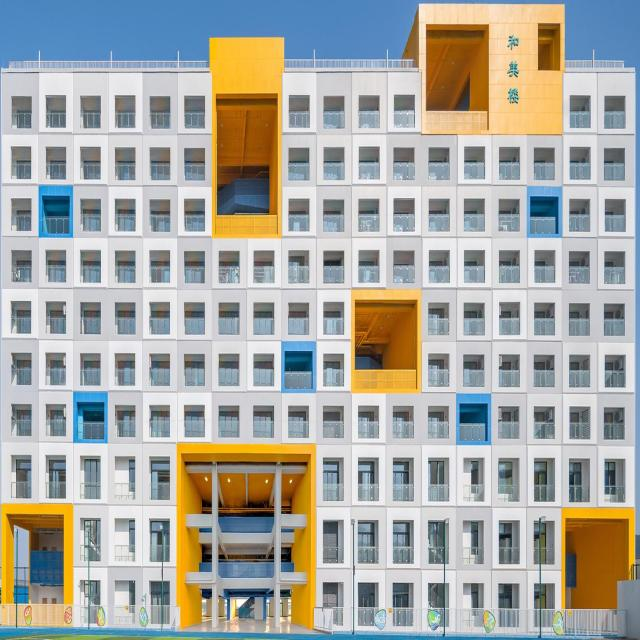Railing: (314, 607, 626, 632), (0, 606, 179, 630), (8, 62, 416, 69), (200, 563, 294, 576), (217, 518, 274, 534), (459, 425, 485, 441), (284, 374, 310, 390), (462, 318, 484, 334), (464, 372, 486, 388), (533, 372, 555, 388), (565, 320, 587, 336), (183, 216, 205, 232), (462, 318, 484, 334), (533, 372, 555, 388), (565, 320, 587, 336), (462, 318, 484, 334), (533, 372, 555, 388), (565, 320, 587, 336), (357, 112, 379, 128), (113, 112, 135, 128), (43, 214, 65, 230), (45, 268, 67, 284), (184, 318, 206, 334), (146, 216, 168, 232), (218, 268, 240, 284), (217, 320, 239, 336), (533, 550, 555, 566), (390, 426, 412, 442), (568, 486, 590, 502), (9, 420, 31, 436), (42, 482, 64, 498), (113, 482, 135, 498), (112, 546, 134, 562), (150, 421, 172, 437), (288, 112, 309, 128), (498, 164, 519, 180), (532, 216, 553, 232), (428, 270, 449, 286), (603, 422, 624, 438), (603, 422, 624, 438), (498, 164, 519, 180), (532, 216, 553, 232), (428, 270, 449, 286), (603, 422, 624, 438), (603, 422, 624, 438), (393, 214, 414, 230), (498, 164, 519, 180), (532, 216, 553, 232), (428, 270, 449, 286), (603, 422, 624, 438), (603, 422, 624, 438), (498, 164, 519, 180), (9, 166, 30, 182), (184, 318, 205, 334), (115, 268, 136, 284), (9, 112, 30, 128), (359, 268, 380, 284), (322, 320, 343, 336), (322, 424, 343, 440), (428, 488, 449, 504), (322, 370, 343, 386), (78, 425, 102, 439), (321, 548, 342, 564), (115, 422, 136, 438), (322, 215, 344, 230), (463, 163, 485, 178), (532, 163, 554, 178), (602, 164, 624, 179), (497, 218, 519, 233), (566, 217, 588, 232), (532, 269, 554, 284), (602, 270, 624, 285), (428, 423, 450, 438), (601, 321, 623, 336), (358, 215, 380, 230), (287, 164, 309, 179), (463, 163, 485, 178), (532, 163, 554, 178), (602, 164, 624, 179), (497, 218, 519, 233), (566, 217, 588, 232), (532, 269, 554, 284), (602, 270, 624, 285), (428, 423, 450, 438), (601, 321, 623, 336), (601, 321, 623, 336), (321, 114, 343, 129), (463, 163, 485, 178), (532, 163, 554, 178), (602, 164, 624, 179), (497, 218, 519, 233), (566, 217, 588, 232), (532, 269, 554, 284), (602, 270, 624, 285), (428, 423, 450, 438), (601, 321, 623, 336), (323, 166, 345, 181), (463, 163, 485, 178), (532, 163, 554, 178), (602, 164, 624, 179), (147, 113, 169, 128), (113, 165, 135, 180), (183, 166, 205, 181), (10, 319, 32, 334), (45, 318, 67, 333), (148, 318, 170, 333), (114, 216, 136, 231), (44, 113, 66, 128), (393, 268, 415, 283), (288, 269, 310, 284), (392, 547, 414, 562), (461, 550, 483, 565), (603, 486, 625, 501), (150, 368, 172, 383), (11, 483, 33, 498), (392, 486, 414, 501), (356, 486, 378, 501), (321, 486, 343, 501), (44, 421, 66, 436), (149, 548, 169, 564), (603, 114, 624, 129), (428, 164, 449, 179), (464, 218, 485, 233), (498, 271, 519, 286), (497, 320, 518, 335), (567, 422, 588, 437), (499, 374, 520, 389), (568, 373, 589, 388), (567, 422, 588, 437), (497, 320, 518, 335), (531, 320, 552, 335), (531, 320, 552, 335), (603, 114, 624, 129), (428, 164, 449, 179), (464, 218, 485, 233), (498, 271, 519, 286), (497, 320, 518, 335), (567, 422, 588, 437), (568, 373, 589, 388), (567, 422, 588, 437), (497, 320, 518, 335), (288, 216, 309, 231), (603, 114, 624, 129), (428, 164, 449, 179), (464, 218, 485, 233), (498, 271, 519, 286), (497, 320, 518, 335), (567, 422, 588, 437), (357, 549, 378, 564), (568, 373, 589, 388), (567, 422, 588, 437), (497, 320, 518, 335), (531, 320, 552, 335), (531, 320, 552, 335), (358, 164, 379, 179), (603, 114, 624, 129), (428, 164, 449, 179), (464, 218, 485, 233), (79, 114, 100, 129), (79, 167, 100, 182), (78, 216, 99, 231), (148, 318, 169, 333), (80, 270, 101, 285), (149, 269, 170, 284), (78, 216, 99, 231), (323, 268, 344, 283), (254, 269, 275, 284), (253, 321, 274, 336), (428, 550, 449, 565), (183, 422, 204, 437), (358, 424, 379, 439), (288, 421, 309, 436), (463, 489, 484, 504), (534, 490, 555, 505), (12, 369, 33, 384), (47, 368, 68, 383), (183, 370, 204, 385), (602, 218, 624, 232), (463, 270, 485, 284), (566, 270, 588, 284), (532, 422, 554, 436), (429, 374, 451, 388), (532, 422, 554, 436), (602, 218, 624, 232), (463, 270, 485, 284), (566, 270, 588, 284), (532, 422, 554, 436), (429, 374, 451, 388), (532, 422, 554, 436), (602, 218, 624, 232), (463, 270, 485, 284), (566, 270, 588, 284), (532, 422, 554, 436), (532, 422, 554, 436), (183, 114, 205, 128), (44, 166, 66, 180), (8, 216, 30, 230), (10, 270, 32, 284), (114, 318, 136, 332), (287, 322, 309, 336), (81, 370, 103, 384), (148, 484, 170, 498), (78, 548, 100, 562), (393, 166, 414, 180), (567, 114, 588, 128), (567, 164, 588, 178), (428, 218, 449, 232), (427, 320, 448, 334), (604, 374, 625, 388), (498, 424, 519, 438), (567, 114, 588, 128), (567, 164, 588, 178), (428, 218, 449, 232), (427, 320, 448, 334), (254, 372, 275, 386), (218, 372, 239, 386), (604, 374, 625, 388), (498, 424, 519, 438), (392, 114, 413, 128), (567, 114, 588, 128), (567, 164, 588, 178), (428, 218, 449, 232), (427, 320, 448, 334), (252, 422, 273, 436), (217, 426, 238, 440), (604, 374, 625, 388), (498, 424, 519, 438), (567, 114, 588, 128), (567, 164, 588, 178), (428, 218, 449, 232), (148, 166, 169, 180), (114, 318, 135, 332), (185, 270, 206, 284), (80, 320, 101, 334), (497, 548, 518, 562), (497, 490, 518, 504), (116, 368, 137, 382), (79, 484, 100, 498)
wall: (0, 5, 637, 630)
windows: (85, 458, 102, 485), (427, 584, 445, 608), (16, 458, 32, 484), (428, 461, 446, 484), (357, 522, 375, 545), (357, 584, 374, 608), (358, 461, 375, 484), (428, 522, 445, 545), (152, 460, 169, 483), (151, 583, 168, 606), (84, 521, 100, 545), (323, 462, 340, 484), (393, 462, 410, 484), (392, 585, 409, 607), (152, 521, 169, 543), (49, 459, 66, 481), (323, 522, 339, 545), (393, 522, 409, 545), (534, 462, 550, 485), (86, 578, 100, 604), (322, 585, 338, 607), (499, 461, 513, 484), (498, 585, 512, 608), (534, 586, 547, 608), (499, 523, 511, 546), (535, 523, 546, 548), (470, 521, 480, 546), (471, 583, 478, 608), (130, 580, 136, 607), (129, 457, 135, 482), (130, 521, 136, 546), (472, 462, 478, 485)
